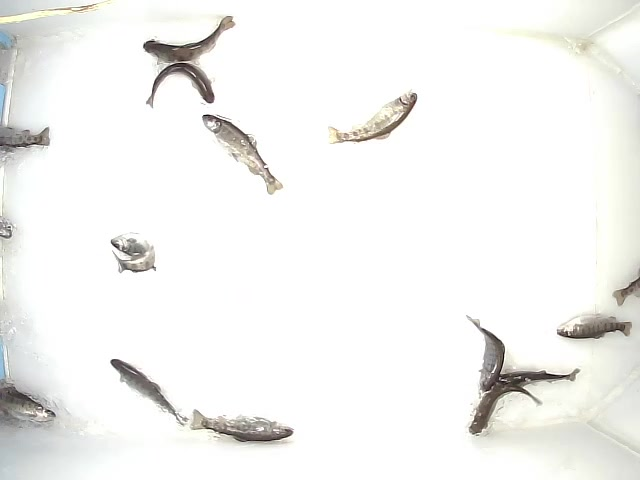fish: (199, 110, 286, 196), (108, 355, 192, 432), (325, 89, 421, 149), (140, 12, 238, 66), (469, 381, 545, 436), (142, 60, 217, 109), (463, 309, 505, 395), (191, 411, 293, 440), (105, 228, 162, 276), (553, 311, 635, 341), (496, 365, 581, 387)
